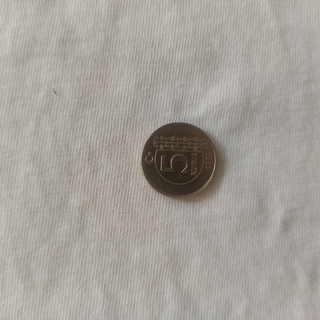5KURUS: (139, 120, 218, 199)
